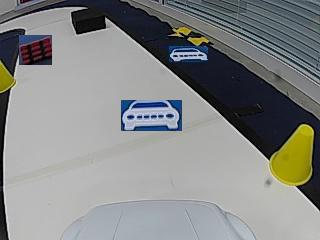block: (70, 7, 106, 35)
cone: (270, 126, 313, 185), (0, 60, 17, 91)
